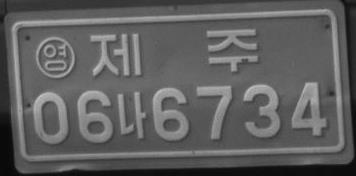0: (32, 90, 69, 146)
3: (243, 82, 281, 138)
4: (290, 81, 327, 137)
6: (151, 86, 190, 142), (76, 89, 114, 144)
7: (196, 83, 232, 141)
나: (117, 90, 146, 139)
영: (35, 35, 76, 79)
제주_D: (89, 28, 259, 78)
